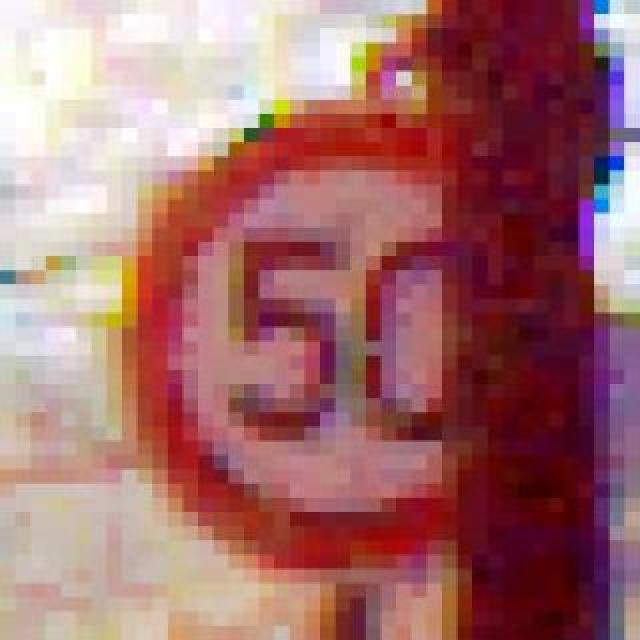50 kph: (108, 86, 580, 542)
